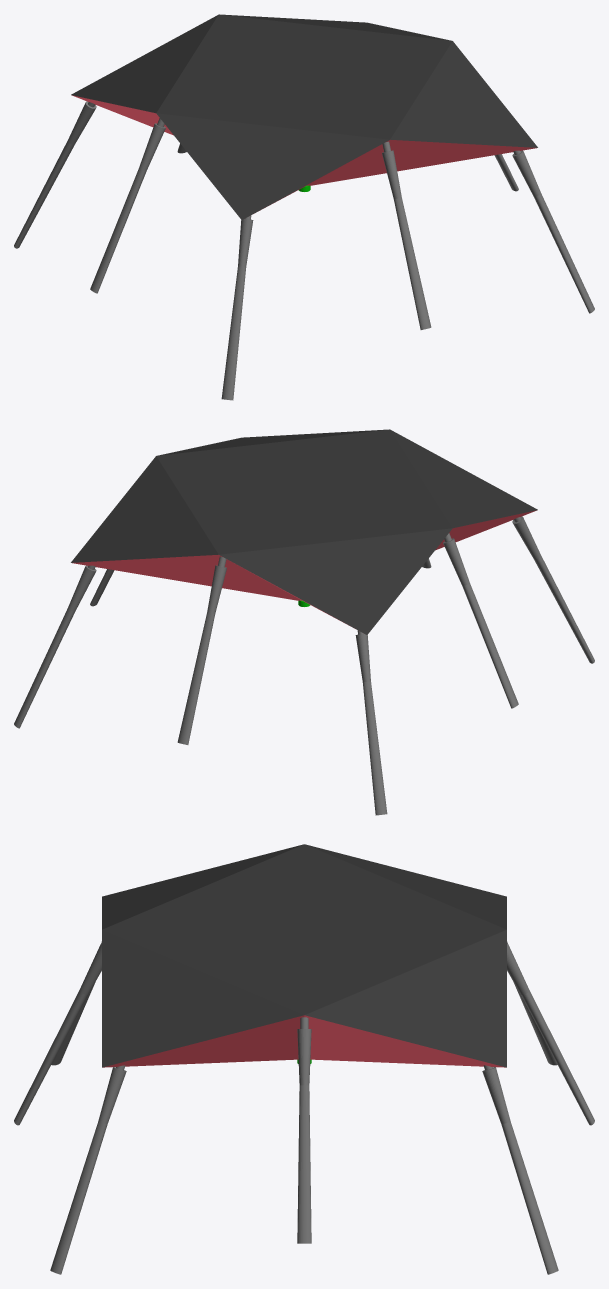
The model's file is Router.fbx.
3 renders of one model, top to bottom at view 1: azimuth 30°, elevation 25°; view 2: azimuth 150°, elevation 25°; view 3: azimuth 270°, elevation 25°, orthographic. The views are drawn at different scales.
Visible parts, largest first — view 1: Router; view 2: Router; view 3: Router.
Boxes of the visible parts, x1,y1,x2,y2 form: Router: (14,14,594,400); Router: (14,429,594,815); Router: (14,844,594,1274).
Size of the model in its own units: 33.83 by 15.36 by 33.83.
